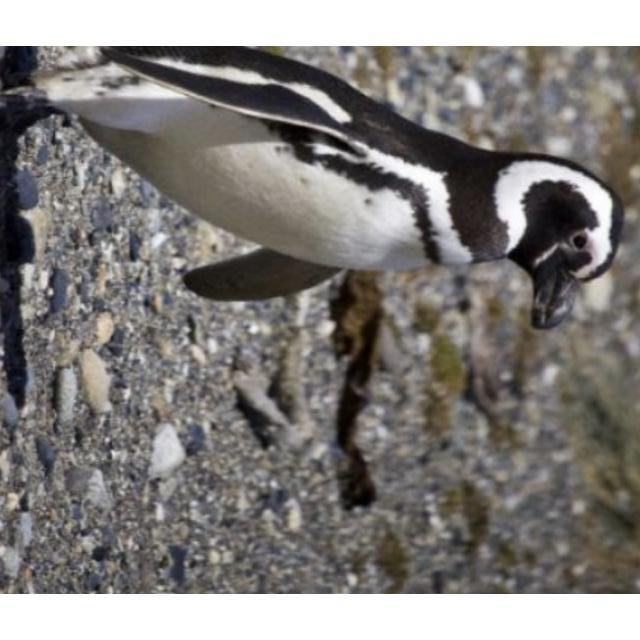penguin: (3, 50, 624, 331)
